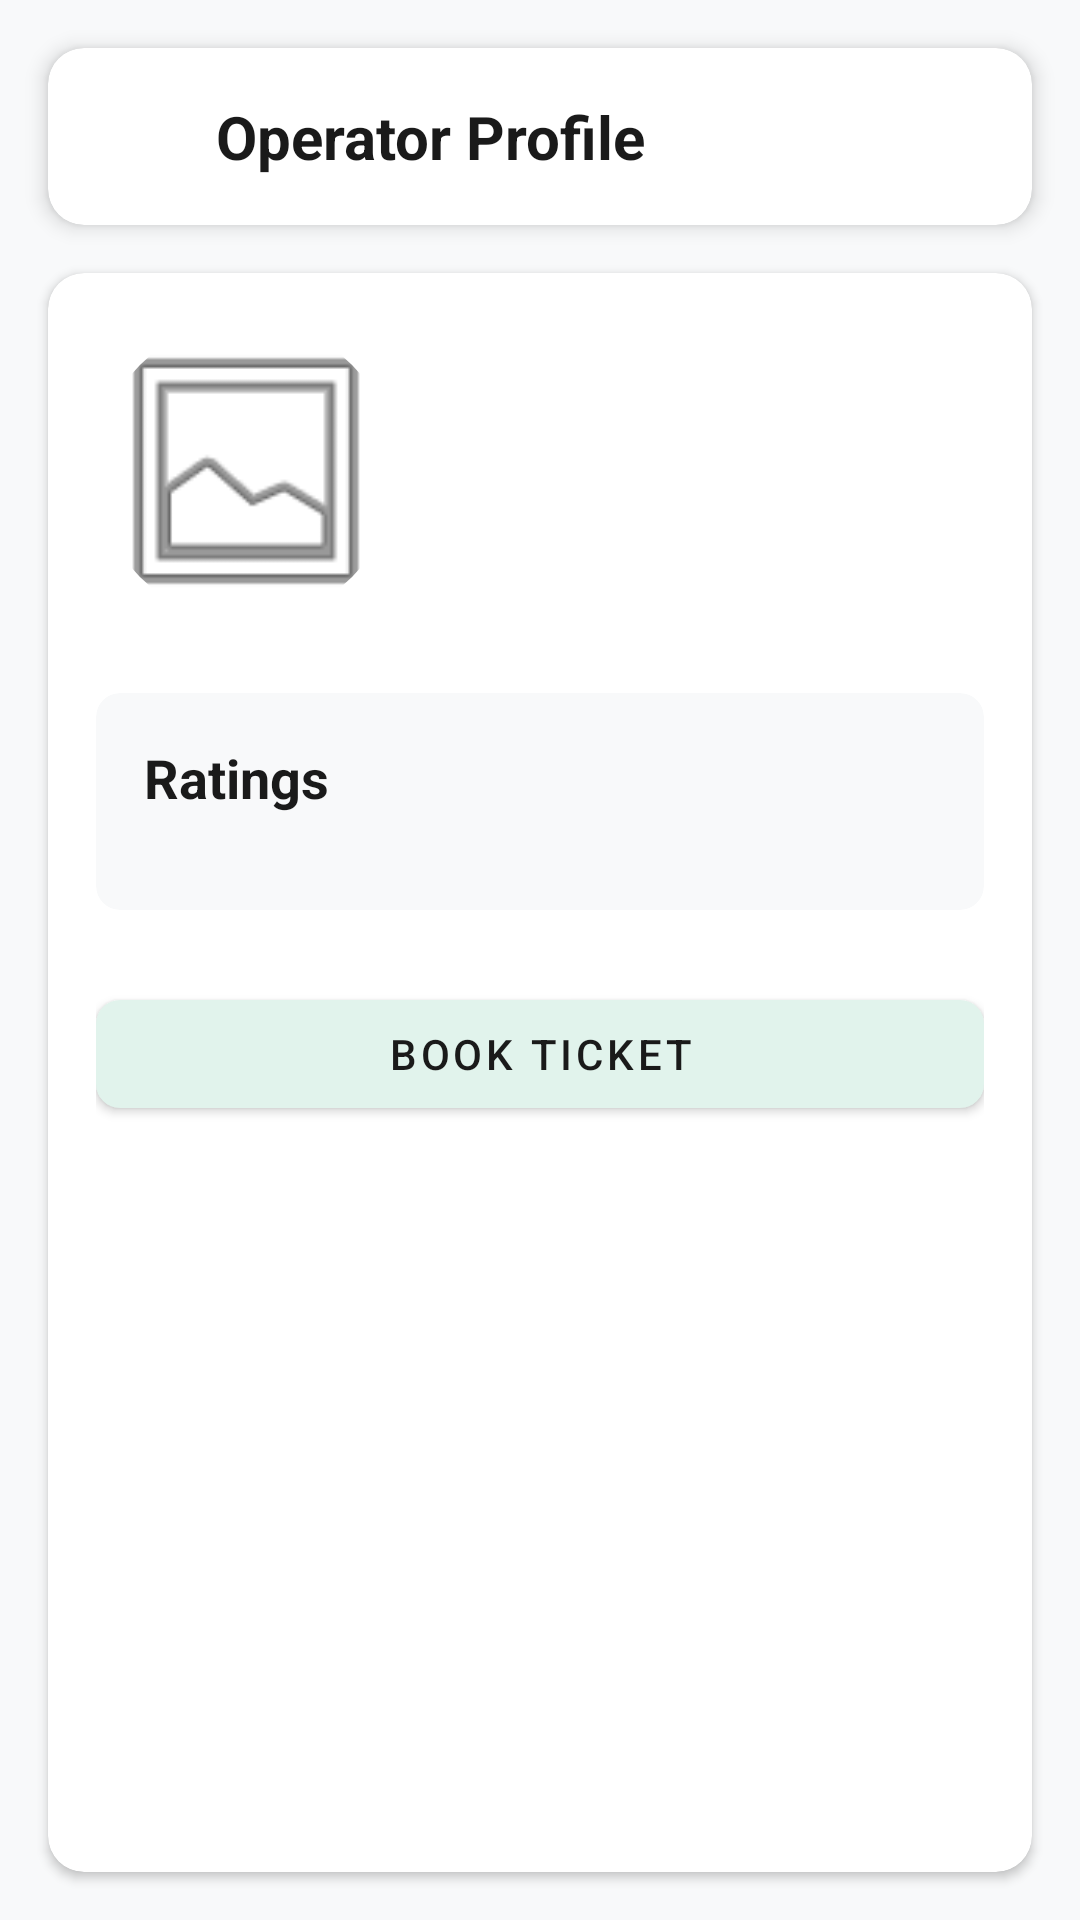

Icons on this 1080 × 1920 Android screen, each with the point to tap as point (x, y):
gallery: point (246, 471)
